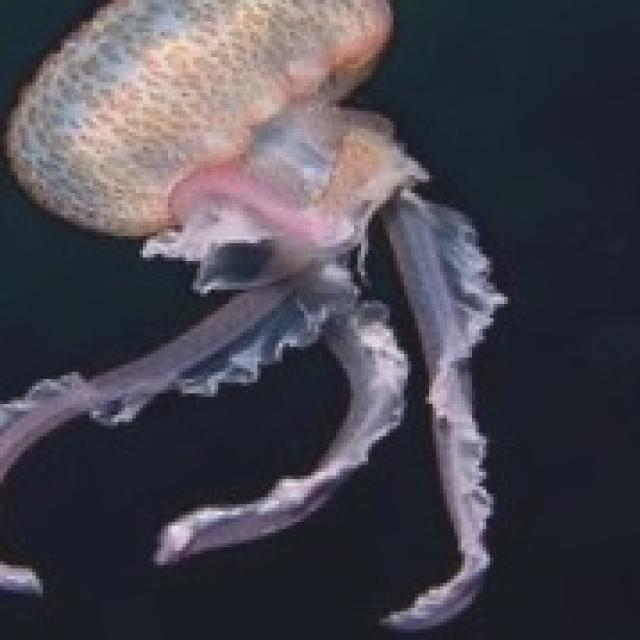Box-jellyfish: (0, 0, 508, 633)
